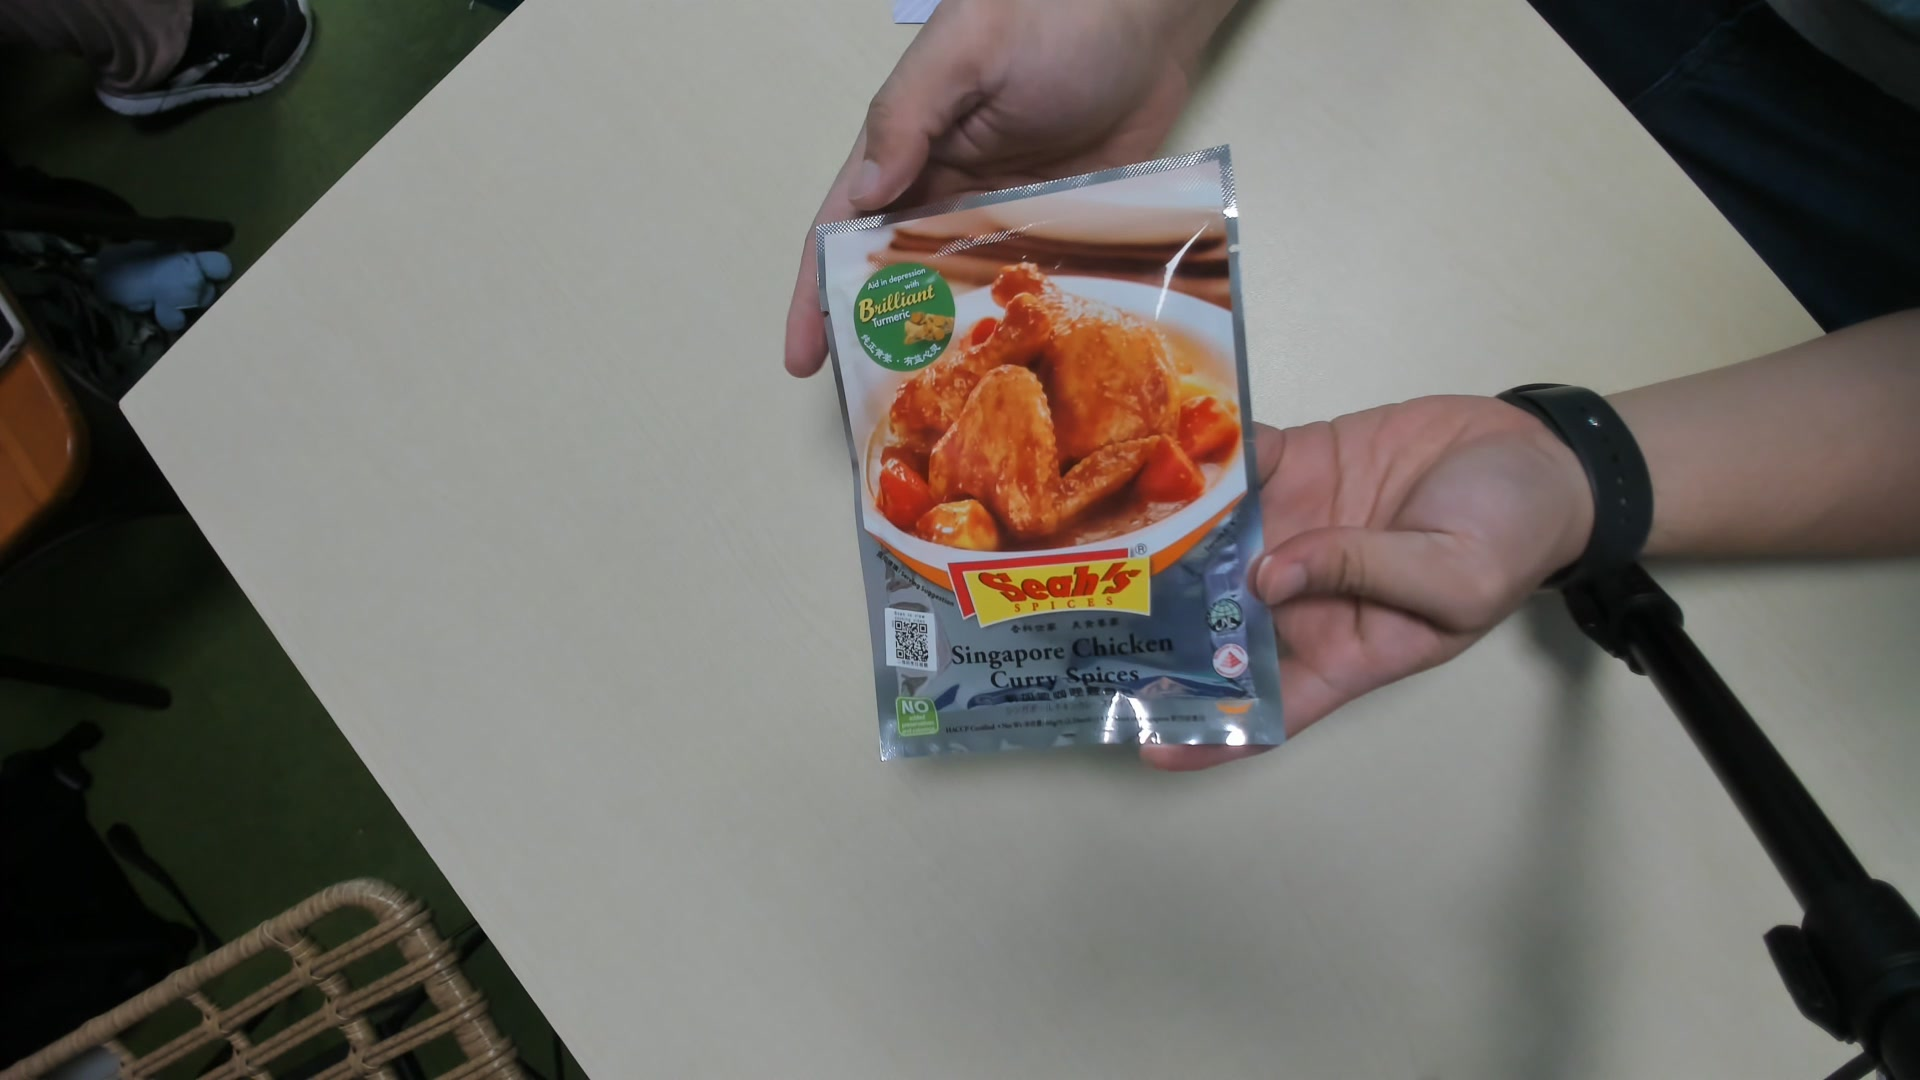CurryPastePowderSauce_0-99g_Halal_Healthy: (825, 146, 1286, 756)
